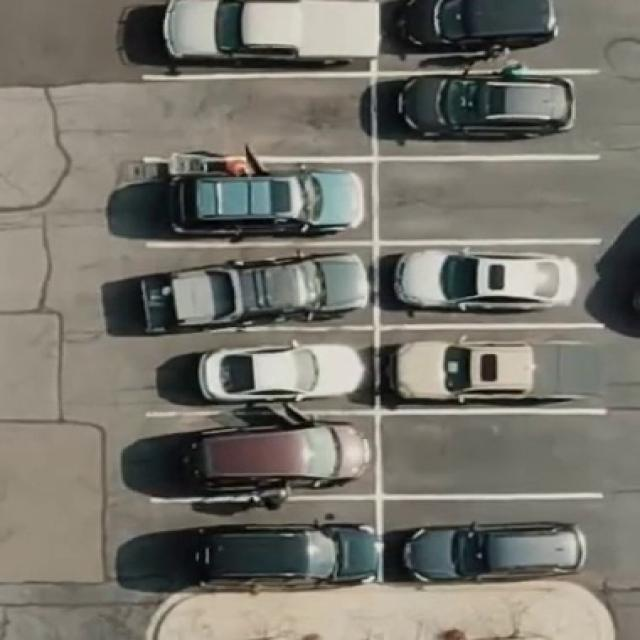empty: (148, 82, 366, 152), (384, 422, 600, 491), (384, 167, 596, 236)
notEmpty: (384, 334, 610, 406), (380, 79, 596, 154), (155, 508, 371, 580), (388, 506, 598, 580), (387, 250, 598, 322), (148, 167, 366, 236), (150, 255, 370, 323), (153, 336, 367, 404), (154, 422, 369, 489), (153, 3, 366, 68), (387, 4, 599, 66)
